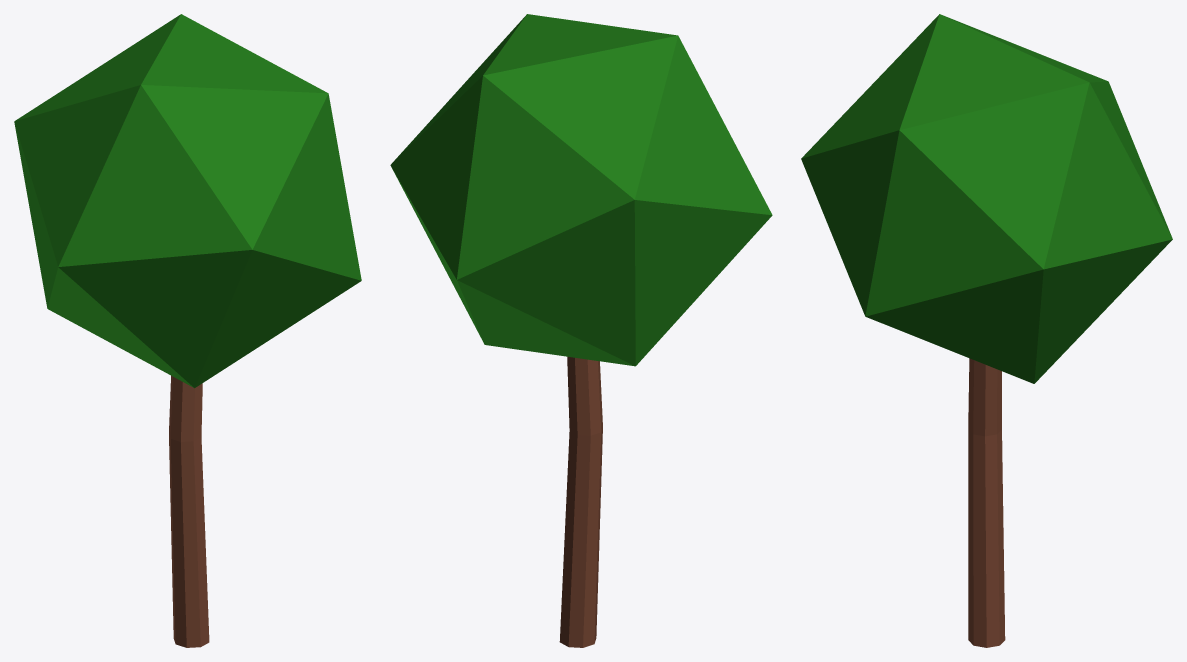
File: Tree_40_summer_vc.fbx
3 views of the same model, side by side, from view 1: azimuth 30°, elevation 25°; view 2: azimuth 150°, elevation 25°; view 3: azimuth 270°, elevation 25° (orthographic). The views are drawn at different scales.
Parts seen in each view (by area): view 1: Tree_40_summer_vc; view 2: Tree_40_summer_vc; view 3: Tree_40_summer_vc.
Boxes of the visible parts, box(x1,y1,x2,y2) form: Tree_40_summer_vc: box(14, 14, 361, 647); Tree_40_summer_vc: box(390, 14, 772, 647); Tree_40_summer_vc: box(801, 14, 1172, 647).
Size of the model in its own units: 110 by 196 by 112.
